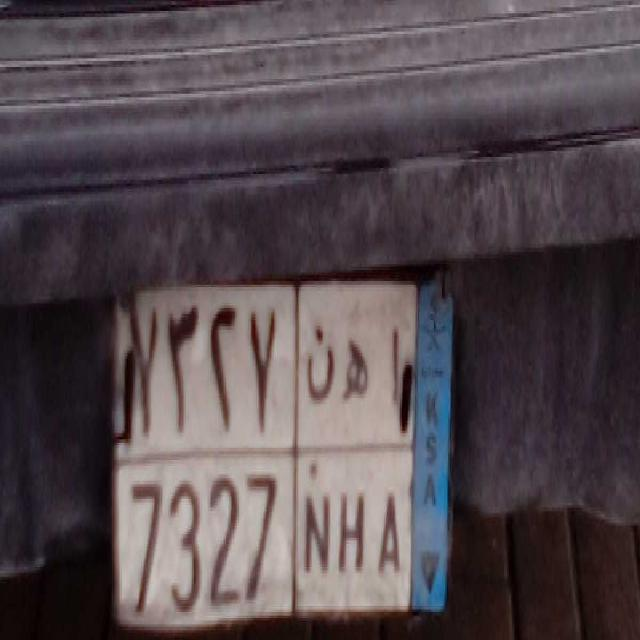license_plate: (115, 446, 406, 637)
